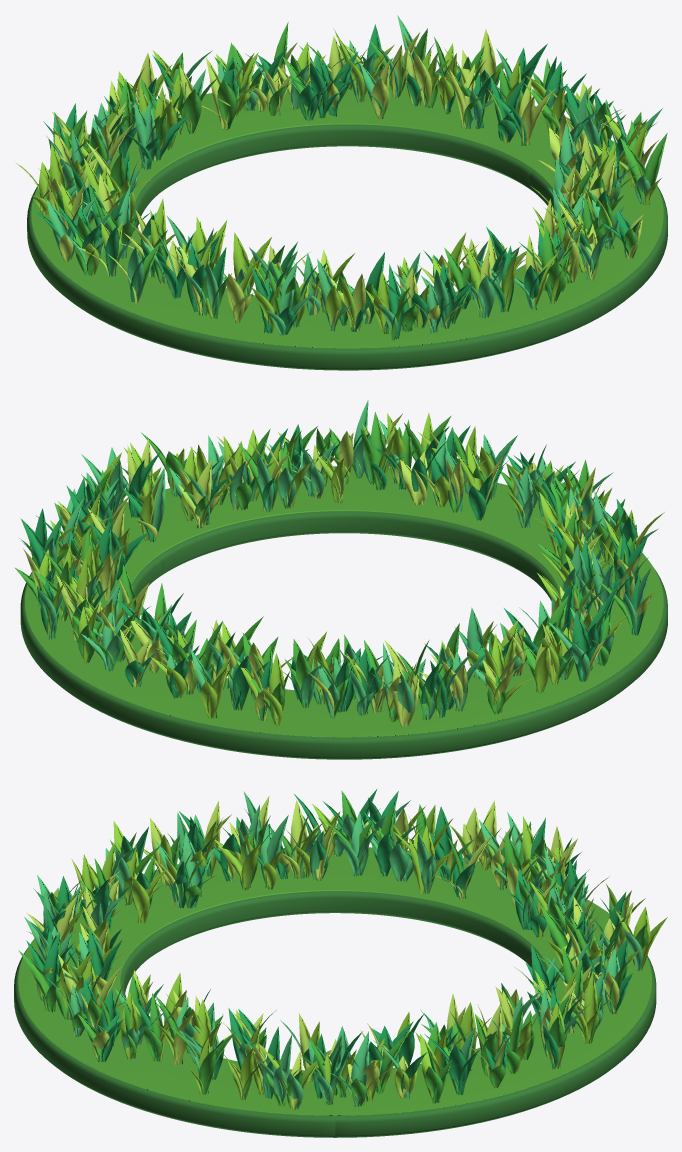
File: pasto-aro.glb
3 renders of one model, top to bottom at view 1: azimuth 30°, elevation 25°; view 2: azimuth 150°, elevation 25°; view 3: azimuth 270°, elevation 25°, orthographic.
Visible parts, largest first — view 1: Cesped_base, Borde_verde, Verde_pradera, Verde_sol, Verde_hoja, Verde_lima, Verde_menta; view 2: Cesped_base, Borde_verde, Verde_menta, Verde_hoja, Verde_lima, Verde_pradera, Verde_sol; view 3: Cesped_base, Borde_verde, Verde_pradera, Verde_lima, Verde_menta, Verde_hoja, Verde_sol.
Boxes of the visible parts, x1,y1,x2,y2 form: Cesped_base: (31, 81, 663, 348); Borde_verde: (27, 124, 667, 370); Verde_pradera: (32, 24, 640, 338); Verde_sol: (15, 29, 658, 339); Verde_hoja: (40, 22, 667, 340); Verde_lima: (31, 28, 662, 333); Verde_menta: (46, 15, 662, 336); Cesped_base: (25, 466, 663, 737); Borde_verde: (20, 511, 667, 759); Verde_menta: (37, 400, 657, 725); Verde_hoja: (14, 412, 638, 723); Verde_lima: (37, 412, 664, 725); Verde_pradera: (20, 424, 647, 720); Verde_sol: (23, 413, 653, 726); Cesped_base: (18, 847, 651, 1115); Borde_verde: (14, 891, 656, 1137); Verde_pradera: (26, 789, 632, 1103); Verde_lima: (23, 803, 667, 1109); Verde_menta: (24, 791, 642, 1109); Verde_hoja: (18, 790, 647, 1108); Verde_sol: (26, 796, 633, 1109).
Size of the model in its own units: 3.72 by 0.5554 by 3.66.
